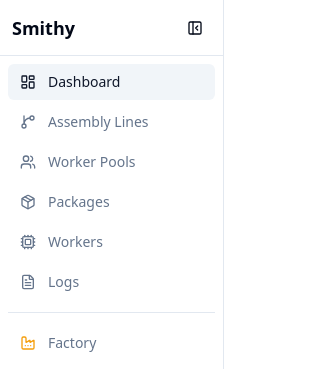
Test: Sidebar › collapse toggle › expands sidebar on second toggle
Click the button named "Collapse sidebar" at (195, 28), box [179, 12, 211, 44]
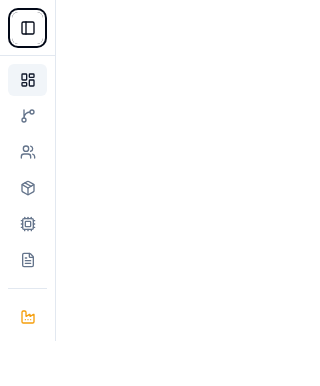
Click the button named "Expand sidebar" at (28, 28), box [12, 12, 43, 44]
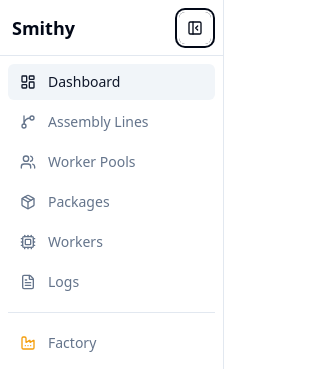
Expected: the button named "Collapse sidebar" is shown, [179, 12, 211, 44]
Expected: the text "Dashboard" is shown, [48, 72, 120, 92]
